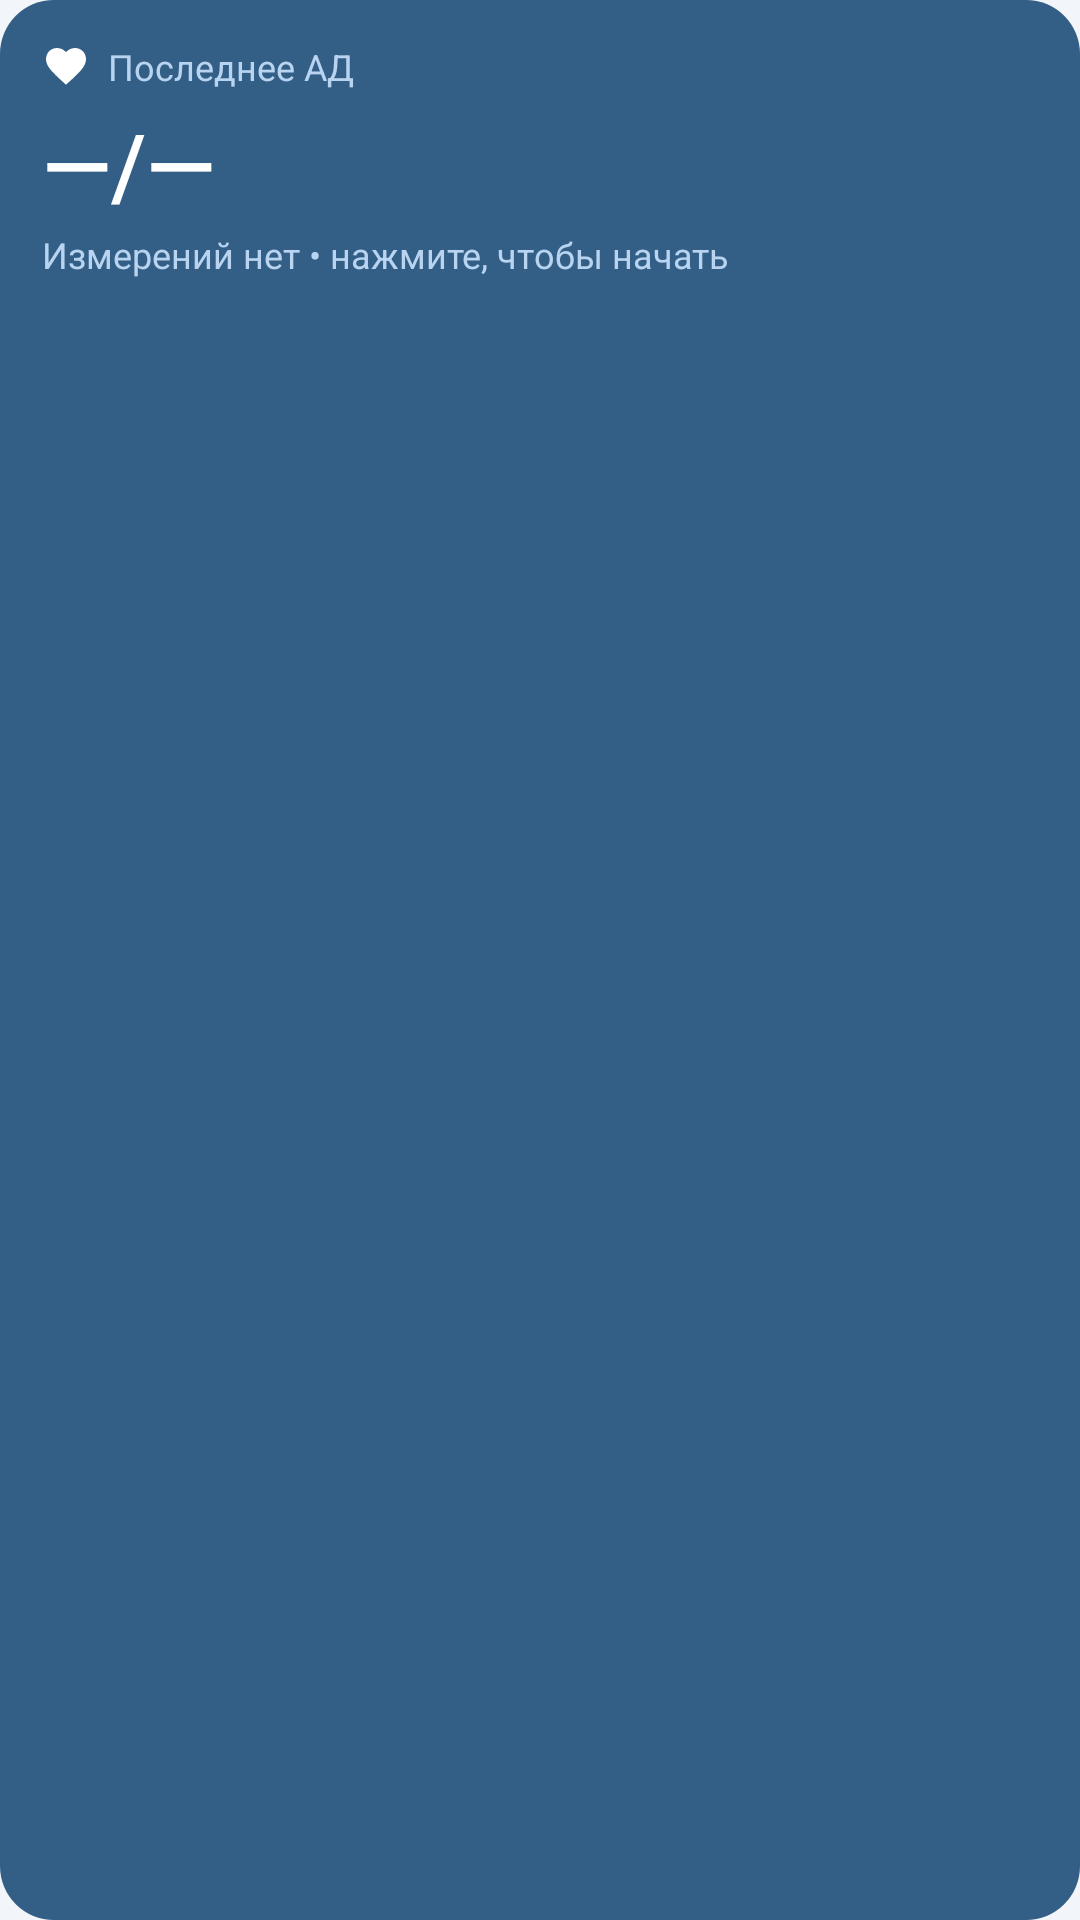

Screen size 1080px x 1920px. Icon name, then its center in pixels as point (x, y):
heart: point (66, 66)
